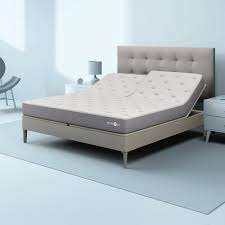bed-matress: (21, 70, 206, 134)
